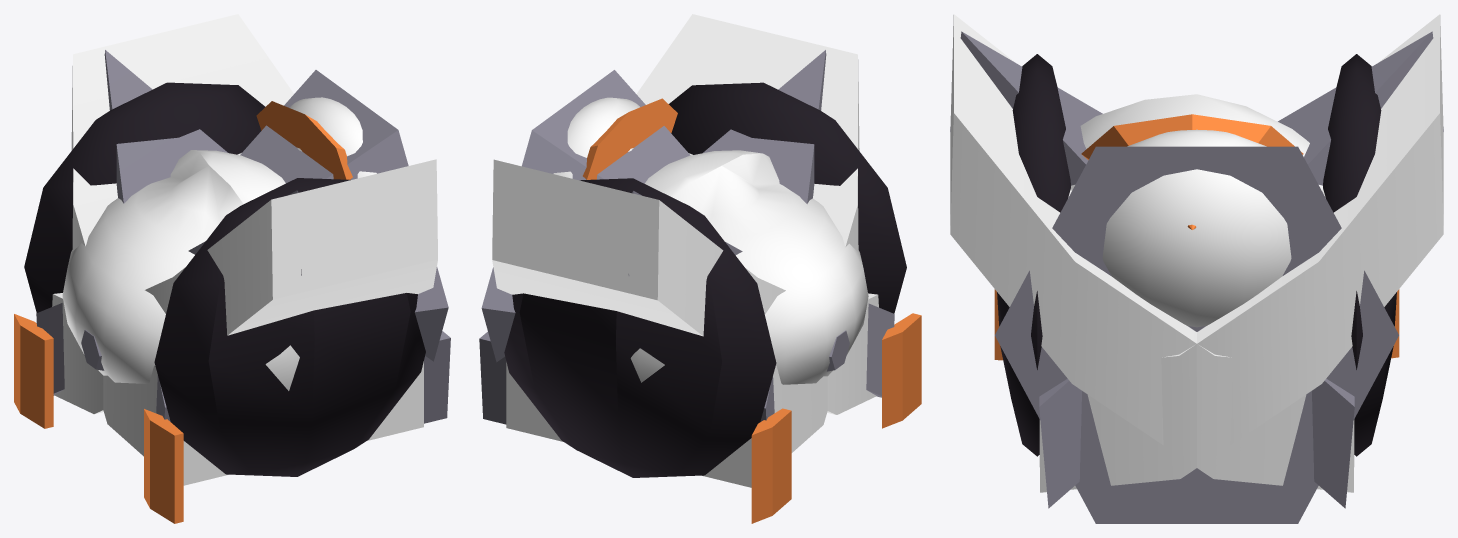
Rendered from mouette.glb.
The picture shows the model from 3 angles, left to right: view 1: azimuth 30°, elevation 25°; view 2: azimuth 150°, elevation 25°; view 3: azimuth 270°, elevation 25°; orthographic projection. The views are drawn at different scales.
Visible parts, largest first — view 1: mouette_corps, mouette_aile_d, mouette_aile_g; view 2: mouette_corps, mouette_aile_g, mouette_aile_d; view 3: mouette_corps, mouette_aile_g, mouette_aile_d.
Boxes of the visible parts, box(x1,y1,x2,y2) form: mouette_corps: box(14, 70, 448, 523); mouette_aile_d: box(36, 159, 437, 414); mouette_aile_g: box(71, 14, 450, 485); mouette_corps: box(481, 70, 921, 523); mouette_aile_g: box(492, 159, 894, 414); mouette_aile_d: box(479, 14, 859, 487); mouette_corps: box(994, 54, 1399, 523); mouette_aile_g: box(1039, 14, 1443, 508); mouette_aile_d: box(950, 14, 1354, 508).
Size of the model in its own units: 2.08 by 2.12 by 2.44.
